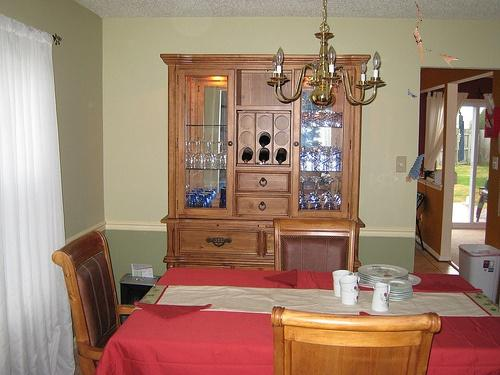tampered: (407, 3, 464, 182)
